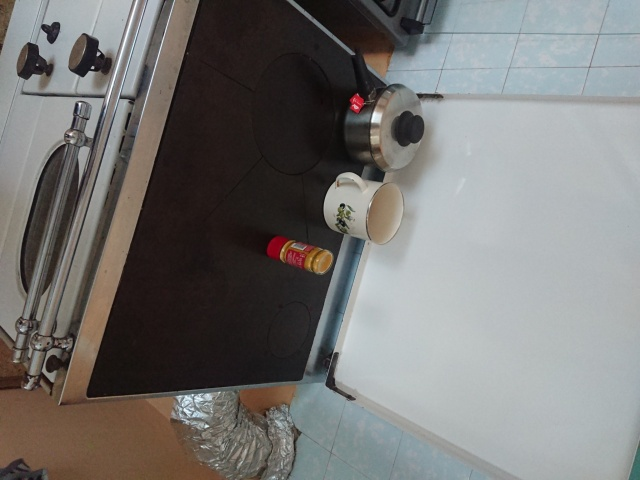Kotanyi Curry Spices Mix 70g: (264, 234, 337, 277)
